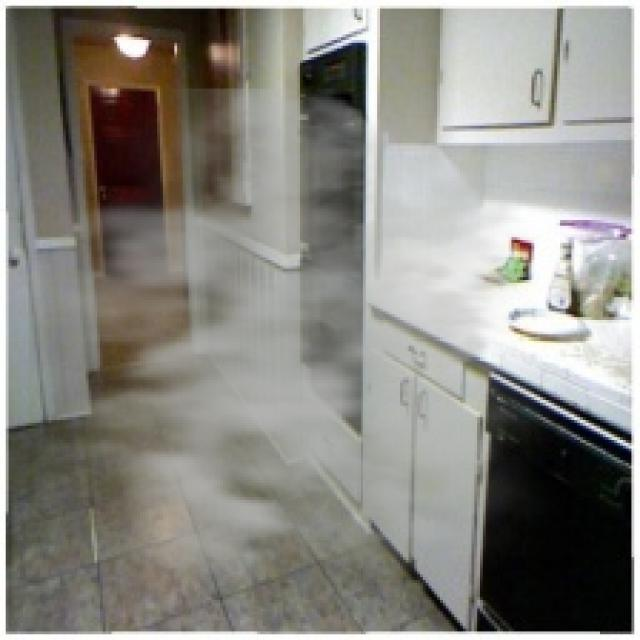smoke: (28, 89, 586, 620)
